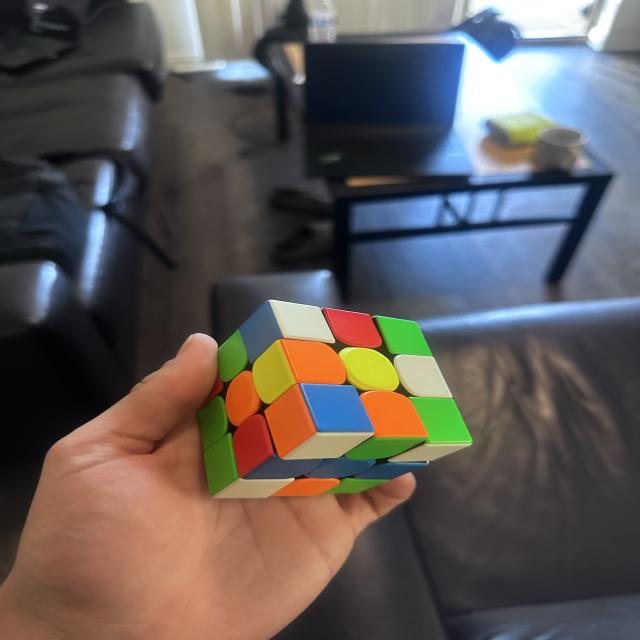sticker: (271, 381, 372, 461), (206, 420, 296, 498), (234, 300, 336, 364), (237, 408, 326, 481), (342, 390, 428, 461), (388, 394, 469, 462), (263, 384, 322, 461), (276, 338, 348, 391), (232, 413, 281, 480), (268, 298, 335, 345), (242, 443, 322, 482), (201, 433, 247, 499), (236, 302, 284, 365), (251, 341, 298, 405), (338, 346, 400, 393), (320, 306, 383, 351), (392, 354, 452, 400), (371, 314, 432, 359), (225, 370, 264, 428), (197, 395, 231, 452), (216, 328, 250, 383), (210, 476, 290, 498), (304, 456, 374, 480), (350, 460, 426, 480), (269, 476, 340, 496), (326, 476, 394, 494), (199, 376, 224, 410)
